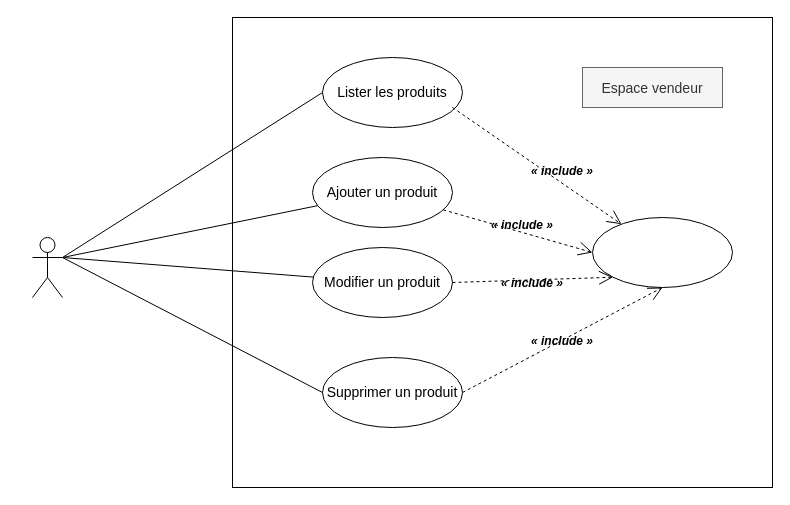
The diagram is 790 pixels wide and 505 high, and some of its shapes have lost their labels. The shapes that lost their labels are listed below. From the top down, each one's box as (x1, y1, x2, y2) in pixels, then its label:
(32, 236, 62, 298): Vendeur
(592, 216, 732, 288): S'authentifier
